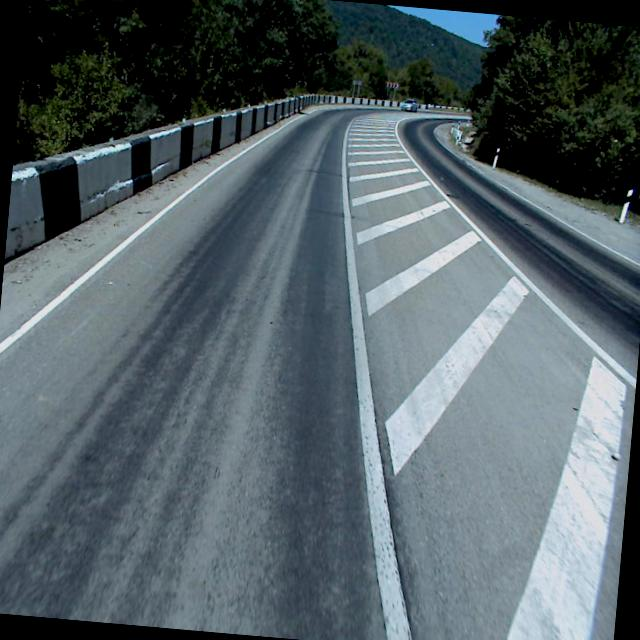road: (0, 107, 640, 640)
